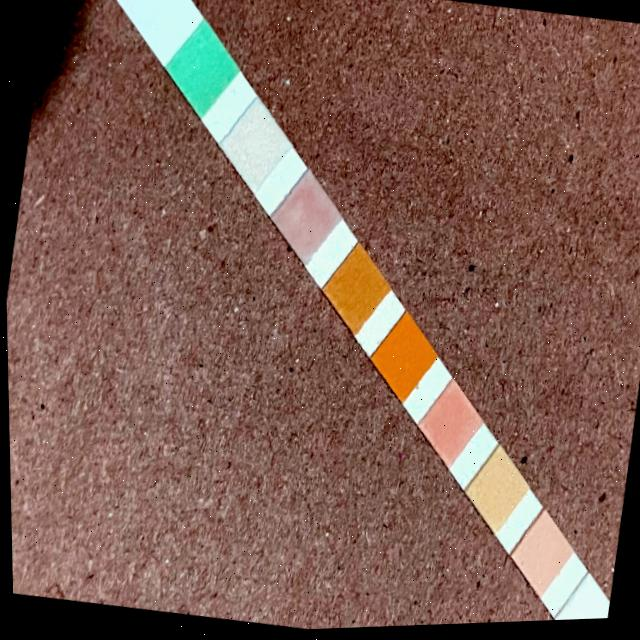Bilirubin: (235, 118, 276, 178)
Blood: (384, 332, 422, 389)
Glucose: (182, 41, 225, 103)
Ketone: (285, 189, 326, 250)
Nitrite: (561, 593, 602, 624)
Protein: (475, 466, 513, 521)
SpGravity: (333, 264, 377, 318)
Urobilinogen: (519, 530, 558, 584)
pH: (430, 396, 467, 456)
